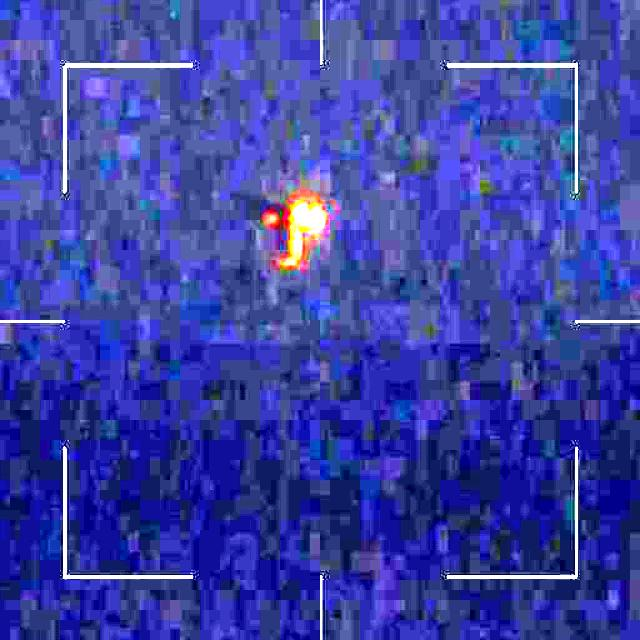bird: (249, 190, 325, 269)
